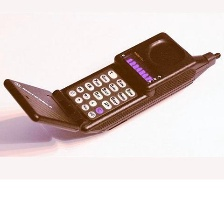phone: (0, 27, 224, 137)
